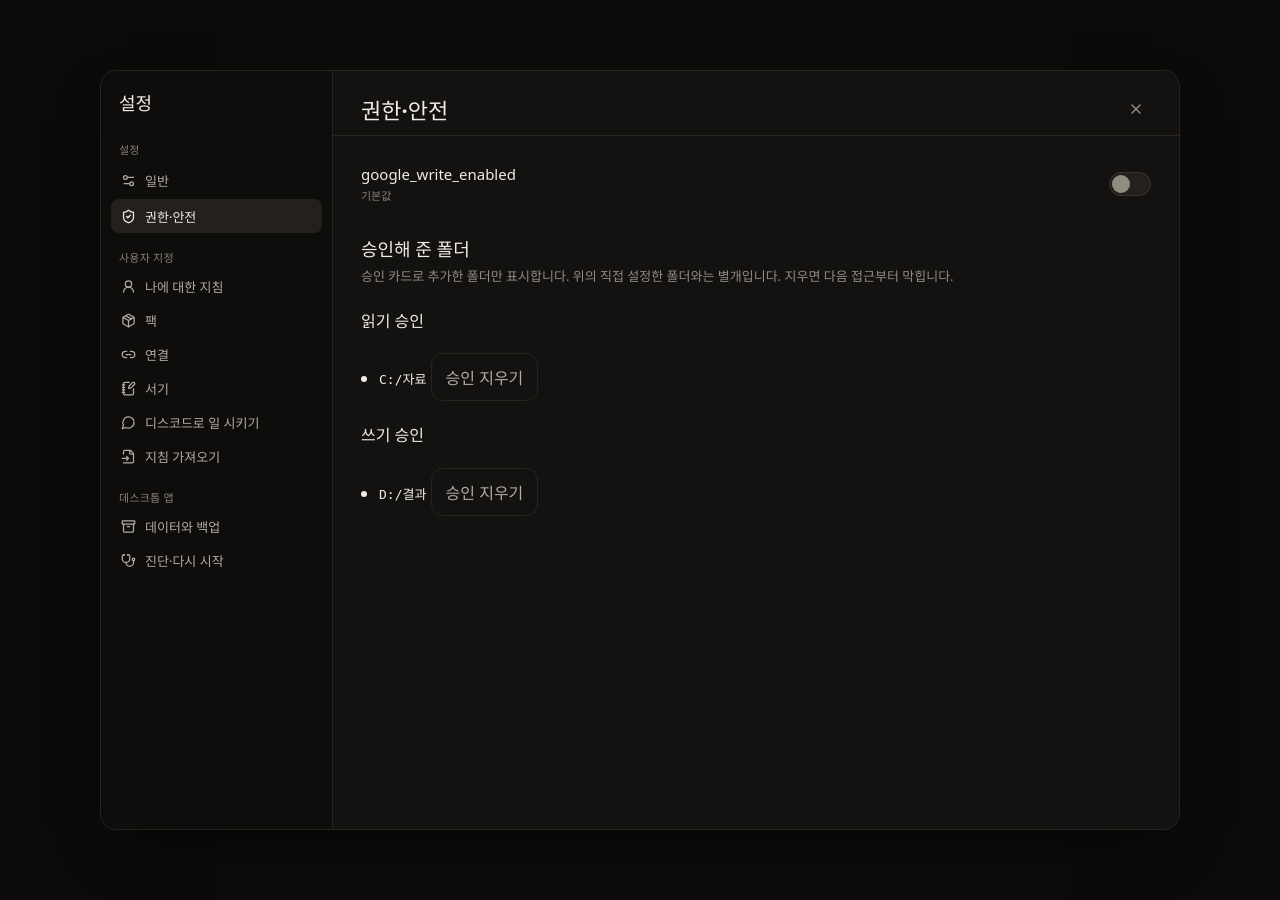
Test: 권한 화면에서 승인된 폴더를 유형별로 보고 읽기 승인만 지운다
Click the button with aria-label "읽기 승인 지우기: C:/자료" at x=484, y=377, box [431,353,538,401]
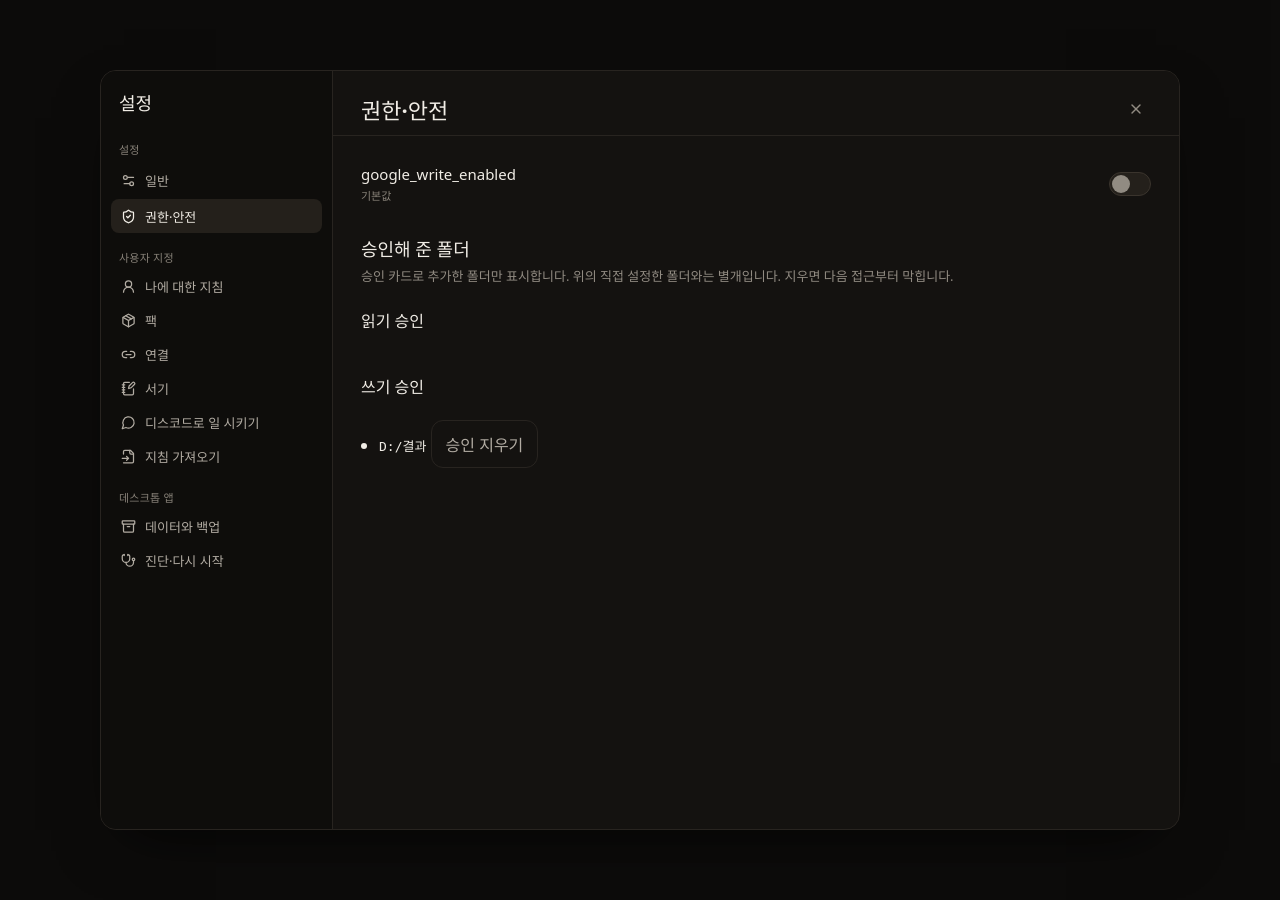
Expected: the text "D:/결과" is shown, [379,439,426,454]
Result: the text "C:/자료" is gone
